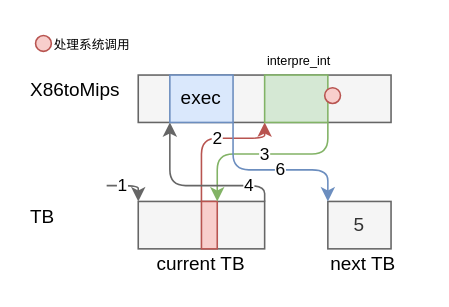
The diagram is 449 pixels wide and 307 high, and some of its shapes have lost their labels. Each missing label, with the centre of its shape:
"helper" goes at point (295, 97).
"syscall" goes at point (201, 224).
